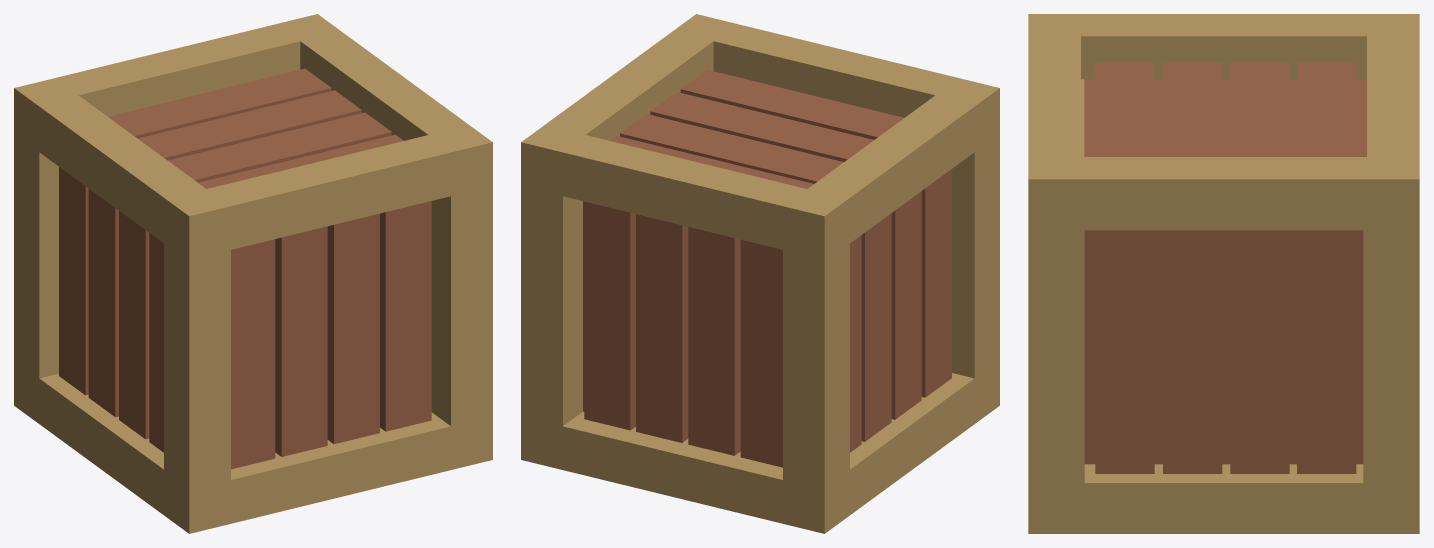
The model's file is Crate.fbx.
3 renders of one model, left to right at view 1: azimuth 30°, elevation 25°; view 2: azimuth 150°, elevation 25°; view 3: azimuth 270°, elevation 25°, orthographic. The views are drawn at different scales.
Parts seen in each view (by area): view 1: pCube61; view 2: pCube61; view 3: pCube61.
Part boxes in pixels (<box>): pCube61: <box>14,14,492,533</box>; pCube61: <box>521,14,999,533</box>; pCube61: <box>1028,14,1419,533</box>.
Size of the model in its own units: 28.43 by 28.43 by 28.43.
